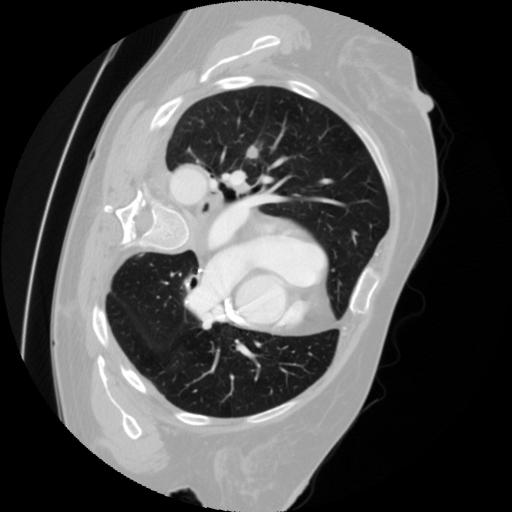nodule: (240, 143, 263, 166)
